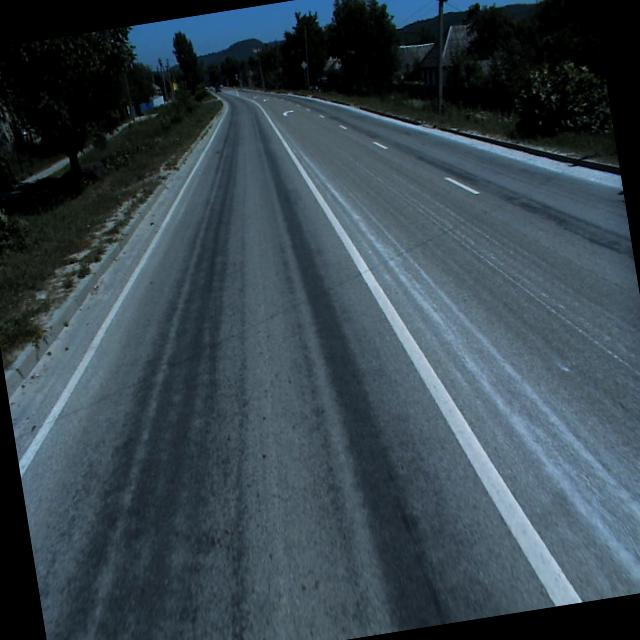road: (8, 87, 640, 640)
